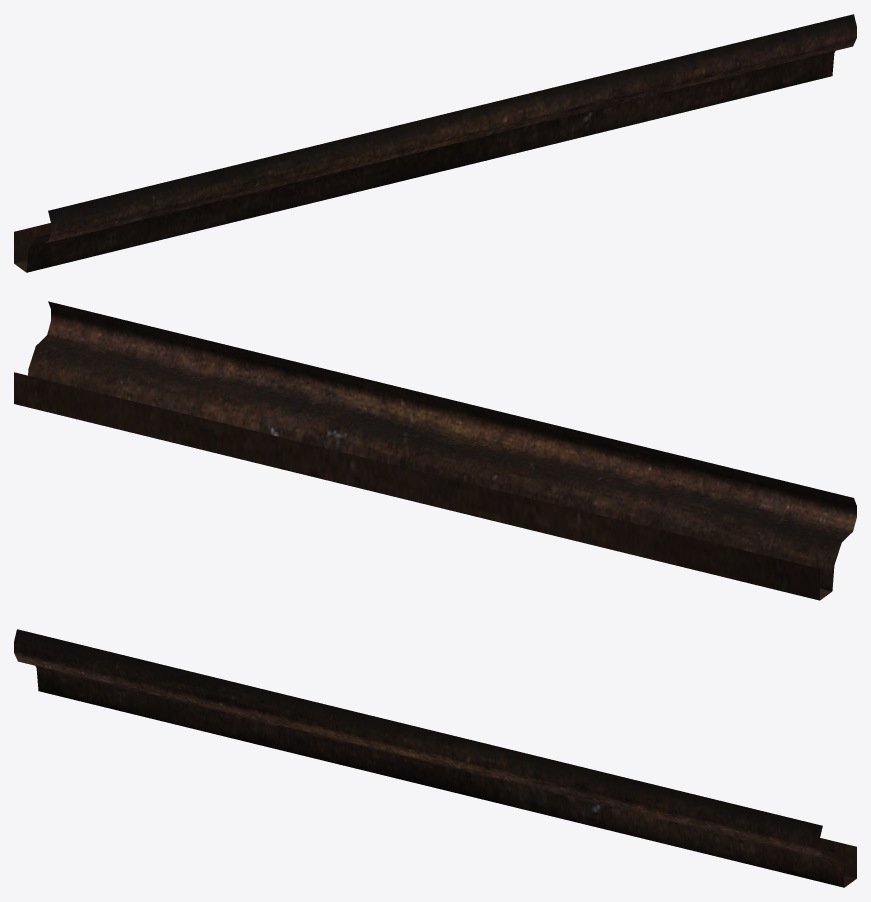
File: default02_floorcap.DAE
3 renders of one model, top to bottom at view 1: azimuth 30°, elevation 25°; view 2: azimuth 150°, elevation 25°; view 3: azimuth 330°, elevation 25°, orthographic.
Parts seen in each view (by area): view 1: default004; view 2: default004; view 3: default004.
Part boxes in pixels (bbox=[...]): default004: bbox=[14, 14, 856, 272]; default004: bbox=[14, 301, 856, 600]; default004: bbox=[14, 629, 856, 887].
Bounding box in the file's own units: 4 × 0.3687 × 0.3188.
